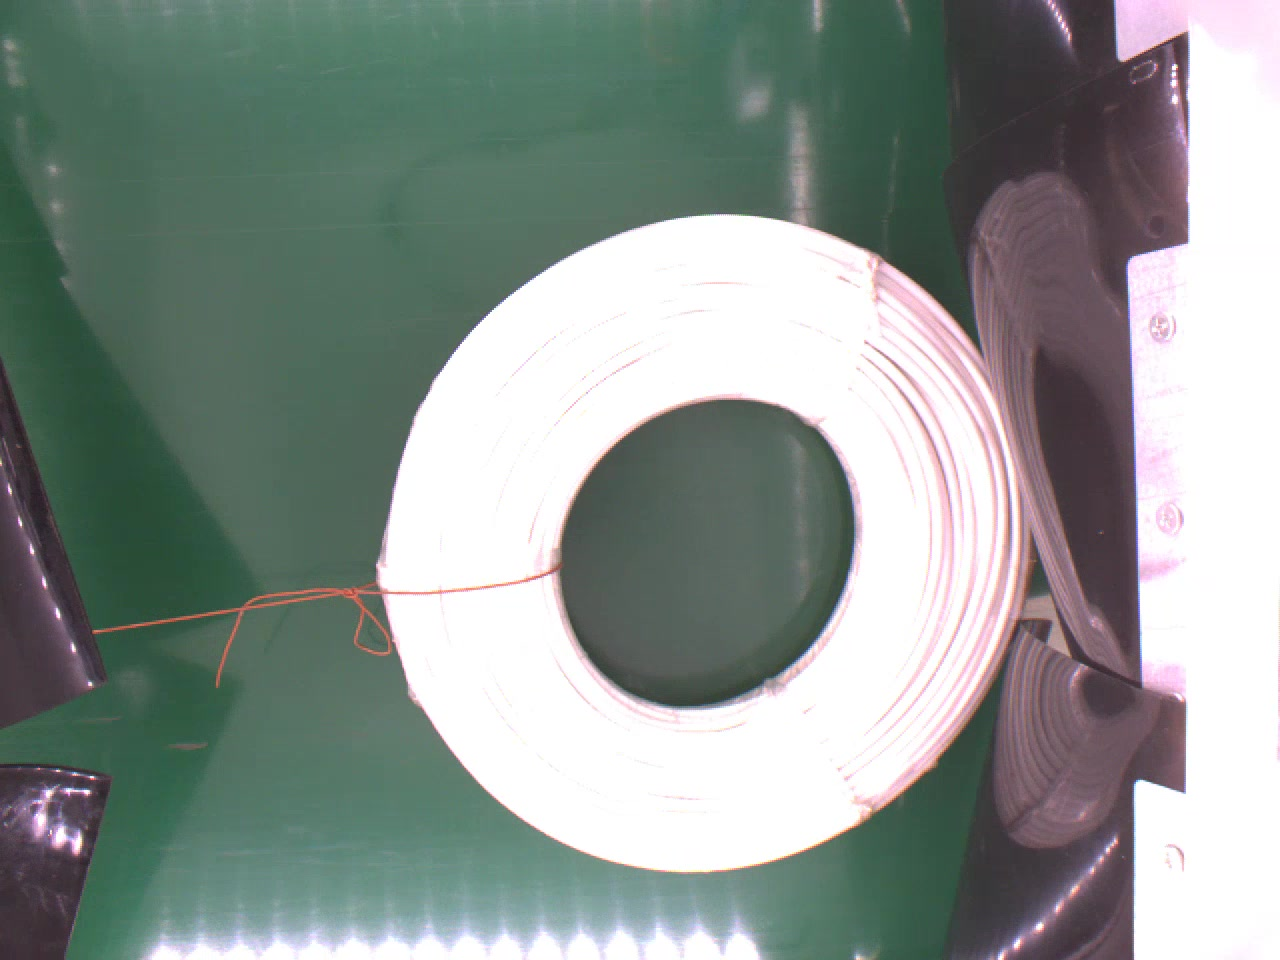white: (376, 210, 1031, 879)
